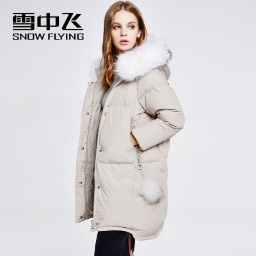face: (99, 1, 149, 59)
